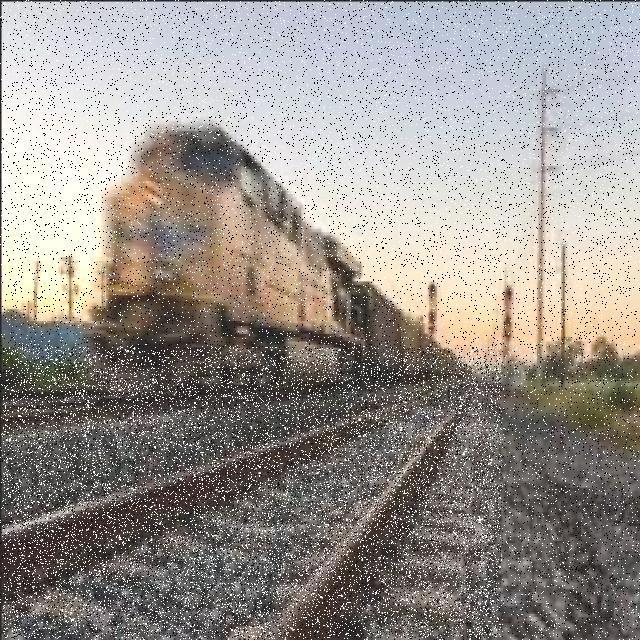rail: (3, 348, 501, 638)
